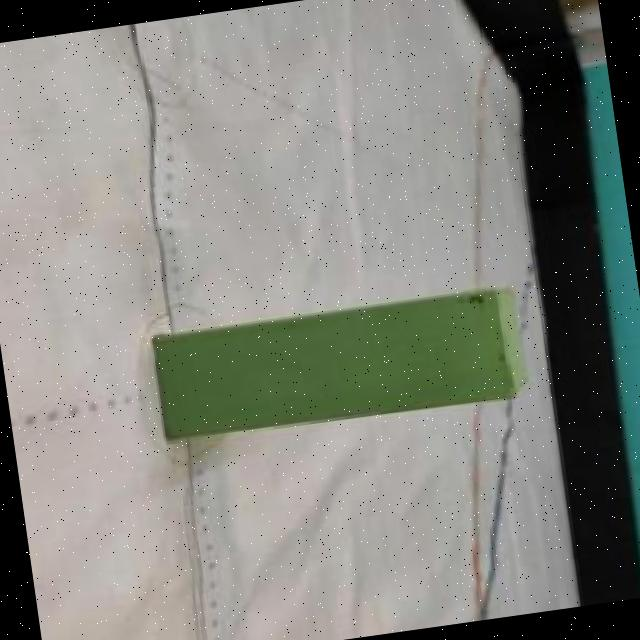greenbox: (150, 285, 526, 444)
